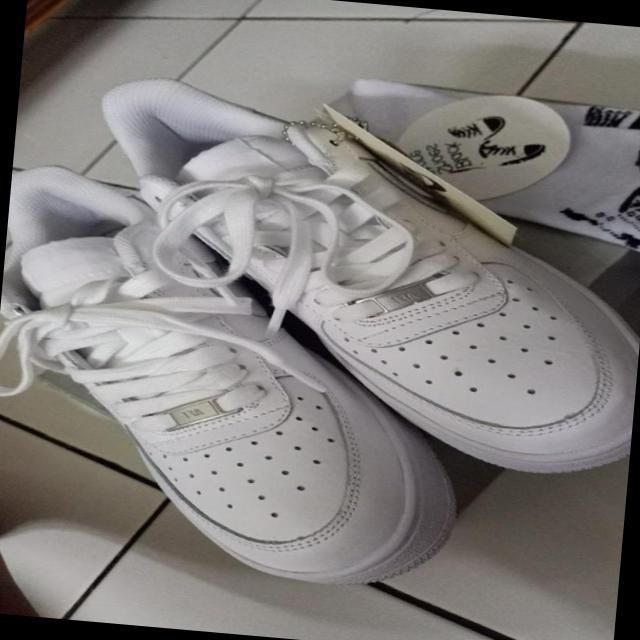nike fake air force: (33, 67, 640, 484), (0, 157, 485, 597)
